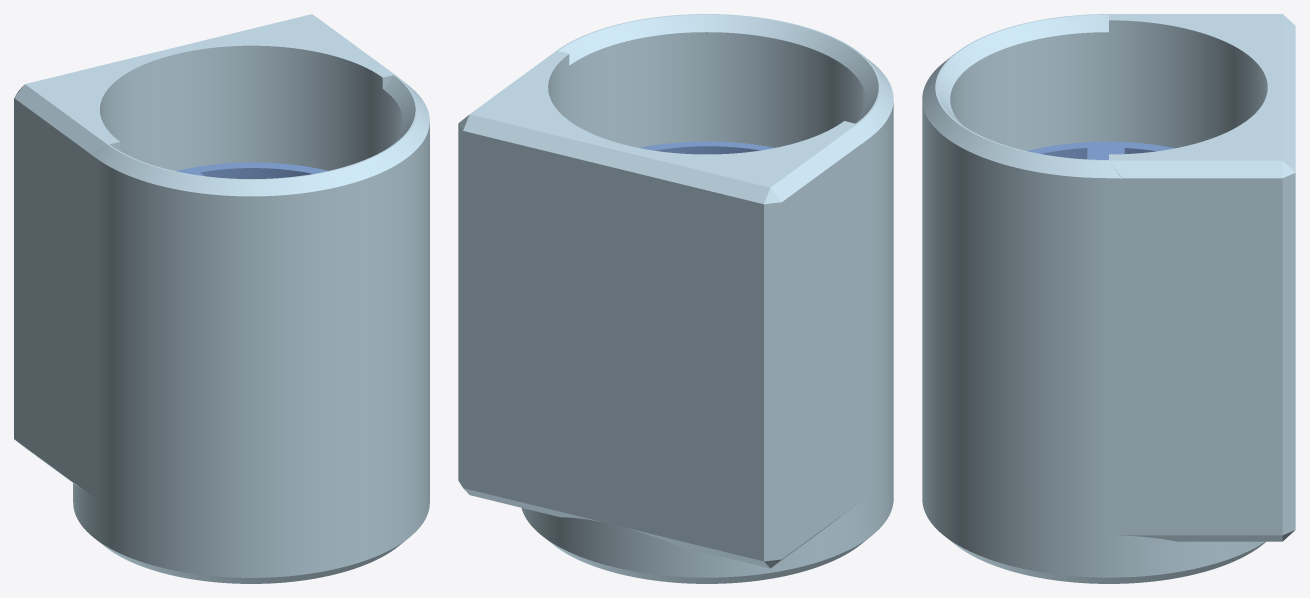
Rendered from Assembly1.gltf.
The picture shows the model from 3 angles, left to right: view 1: azimuth 30°, elevation 25°; view 2: azimuth 150°, elevation 25°; view 3: azimuth 270°, elevation 25°; orthographic projection. The views are drawn at different scales.
Visible parts, largest first — view 1: Part 1 (×2); view 2: Part 1 (×2); view 3: Part 1 (×2).
Part boxes in pixels (x1,y1,x2,y2): Part 1 (×2): [14, 14, 429, 583]; Part 1 (×2): [458, 14, 893, 583]; Part 1 (×2): [922, 14, 1295, 583].
Size of the model in its own units: 0.0508 by 0.0635 by 0.0508.
